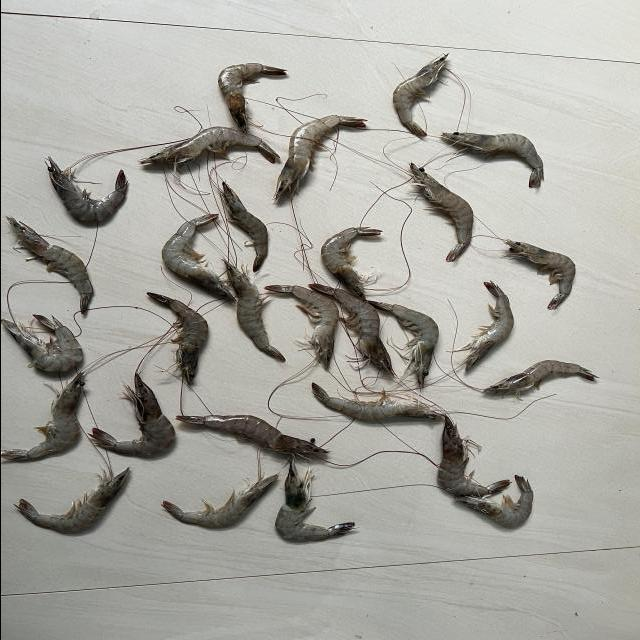shrimp: (5, 216, 92, 314), (308, 284, 396, 377), (274, 114, 366, 201), (13, 468, 128, 532), (0, 373, 83, 460), (88, 374, 174, 456), (275, 459, 354, 542), (223, 260, 285, 363), (161, 214, 234, 301), (175, 416, 328, 457), (410, 163, 473, 262), (264, 285, 338, 369), (161, 475, 278, 528), (368, 301, 439, 388), (438, 417, 510, 498), (442, 131, 544, 188), (138, 126, 279, 167), (449, 282, 514, 370), (146, 292, 207, 385), (503, 239, 576, 310), (46, 157, 126, 221), (311, 383, 445, 420), (217, 62, 285, 132), (0, 315, 81, 372), (393, 53, 448, 136), (321, 227, 382, 300), (221, 182, 268, 272), (455, 476, 533, 528), (484, 360, 598, 393)
